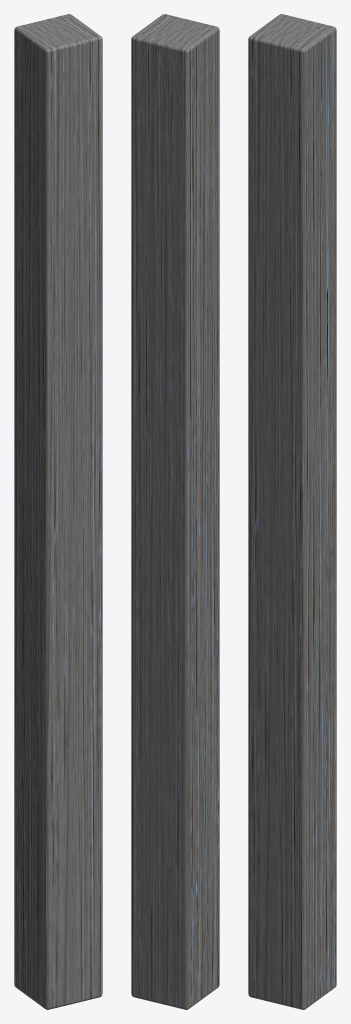
File: LY_LSPPRT.obj
3 renders of one model, left to right at view 1: azimuth 30°, elevation 25°; view 2: azimuth 150°, elevation 25°; view 3: azimuth 330°, elevation 25°, orthographic.
Parts seen in each view (by area): view 1: BigSupport1; view 2: BigSupport1; view 3: BigSupport1.
Part boxes in pixels (x1=…): BigSupport1: x1=14, y1=14, x2=102, y2=1009; BigSupport1: x1=131, y1=14, x2=219, y2=1009; BigSupport1: x1=248, y1=14, x2=336, y2=1009.
Size of the model in its own units: 25 by 400 by 25.
Materials: 1 (1 with a texture image).
